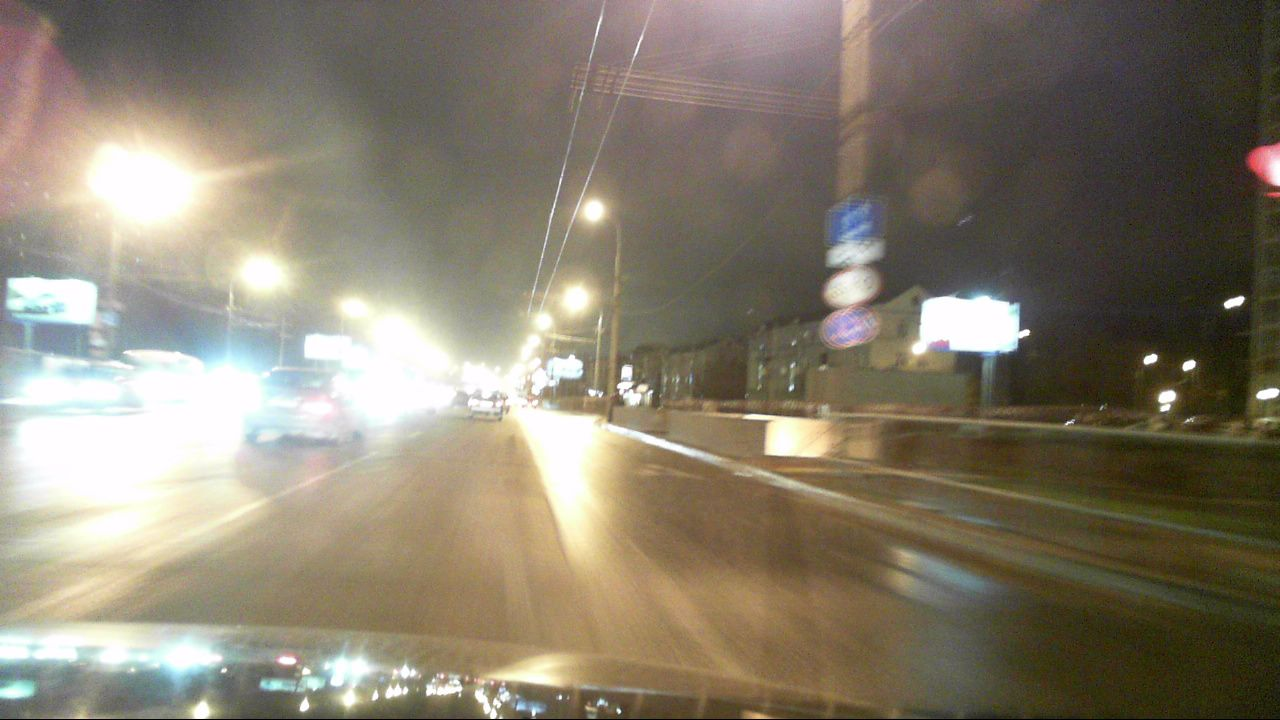No Parking: (839, 307, 879, 344)
